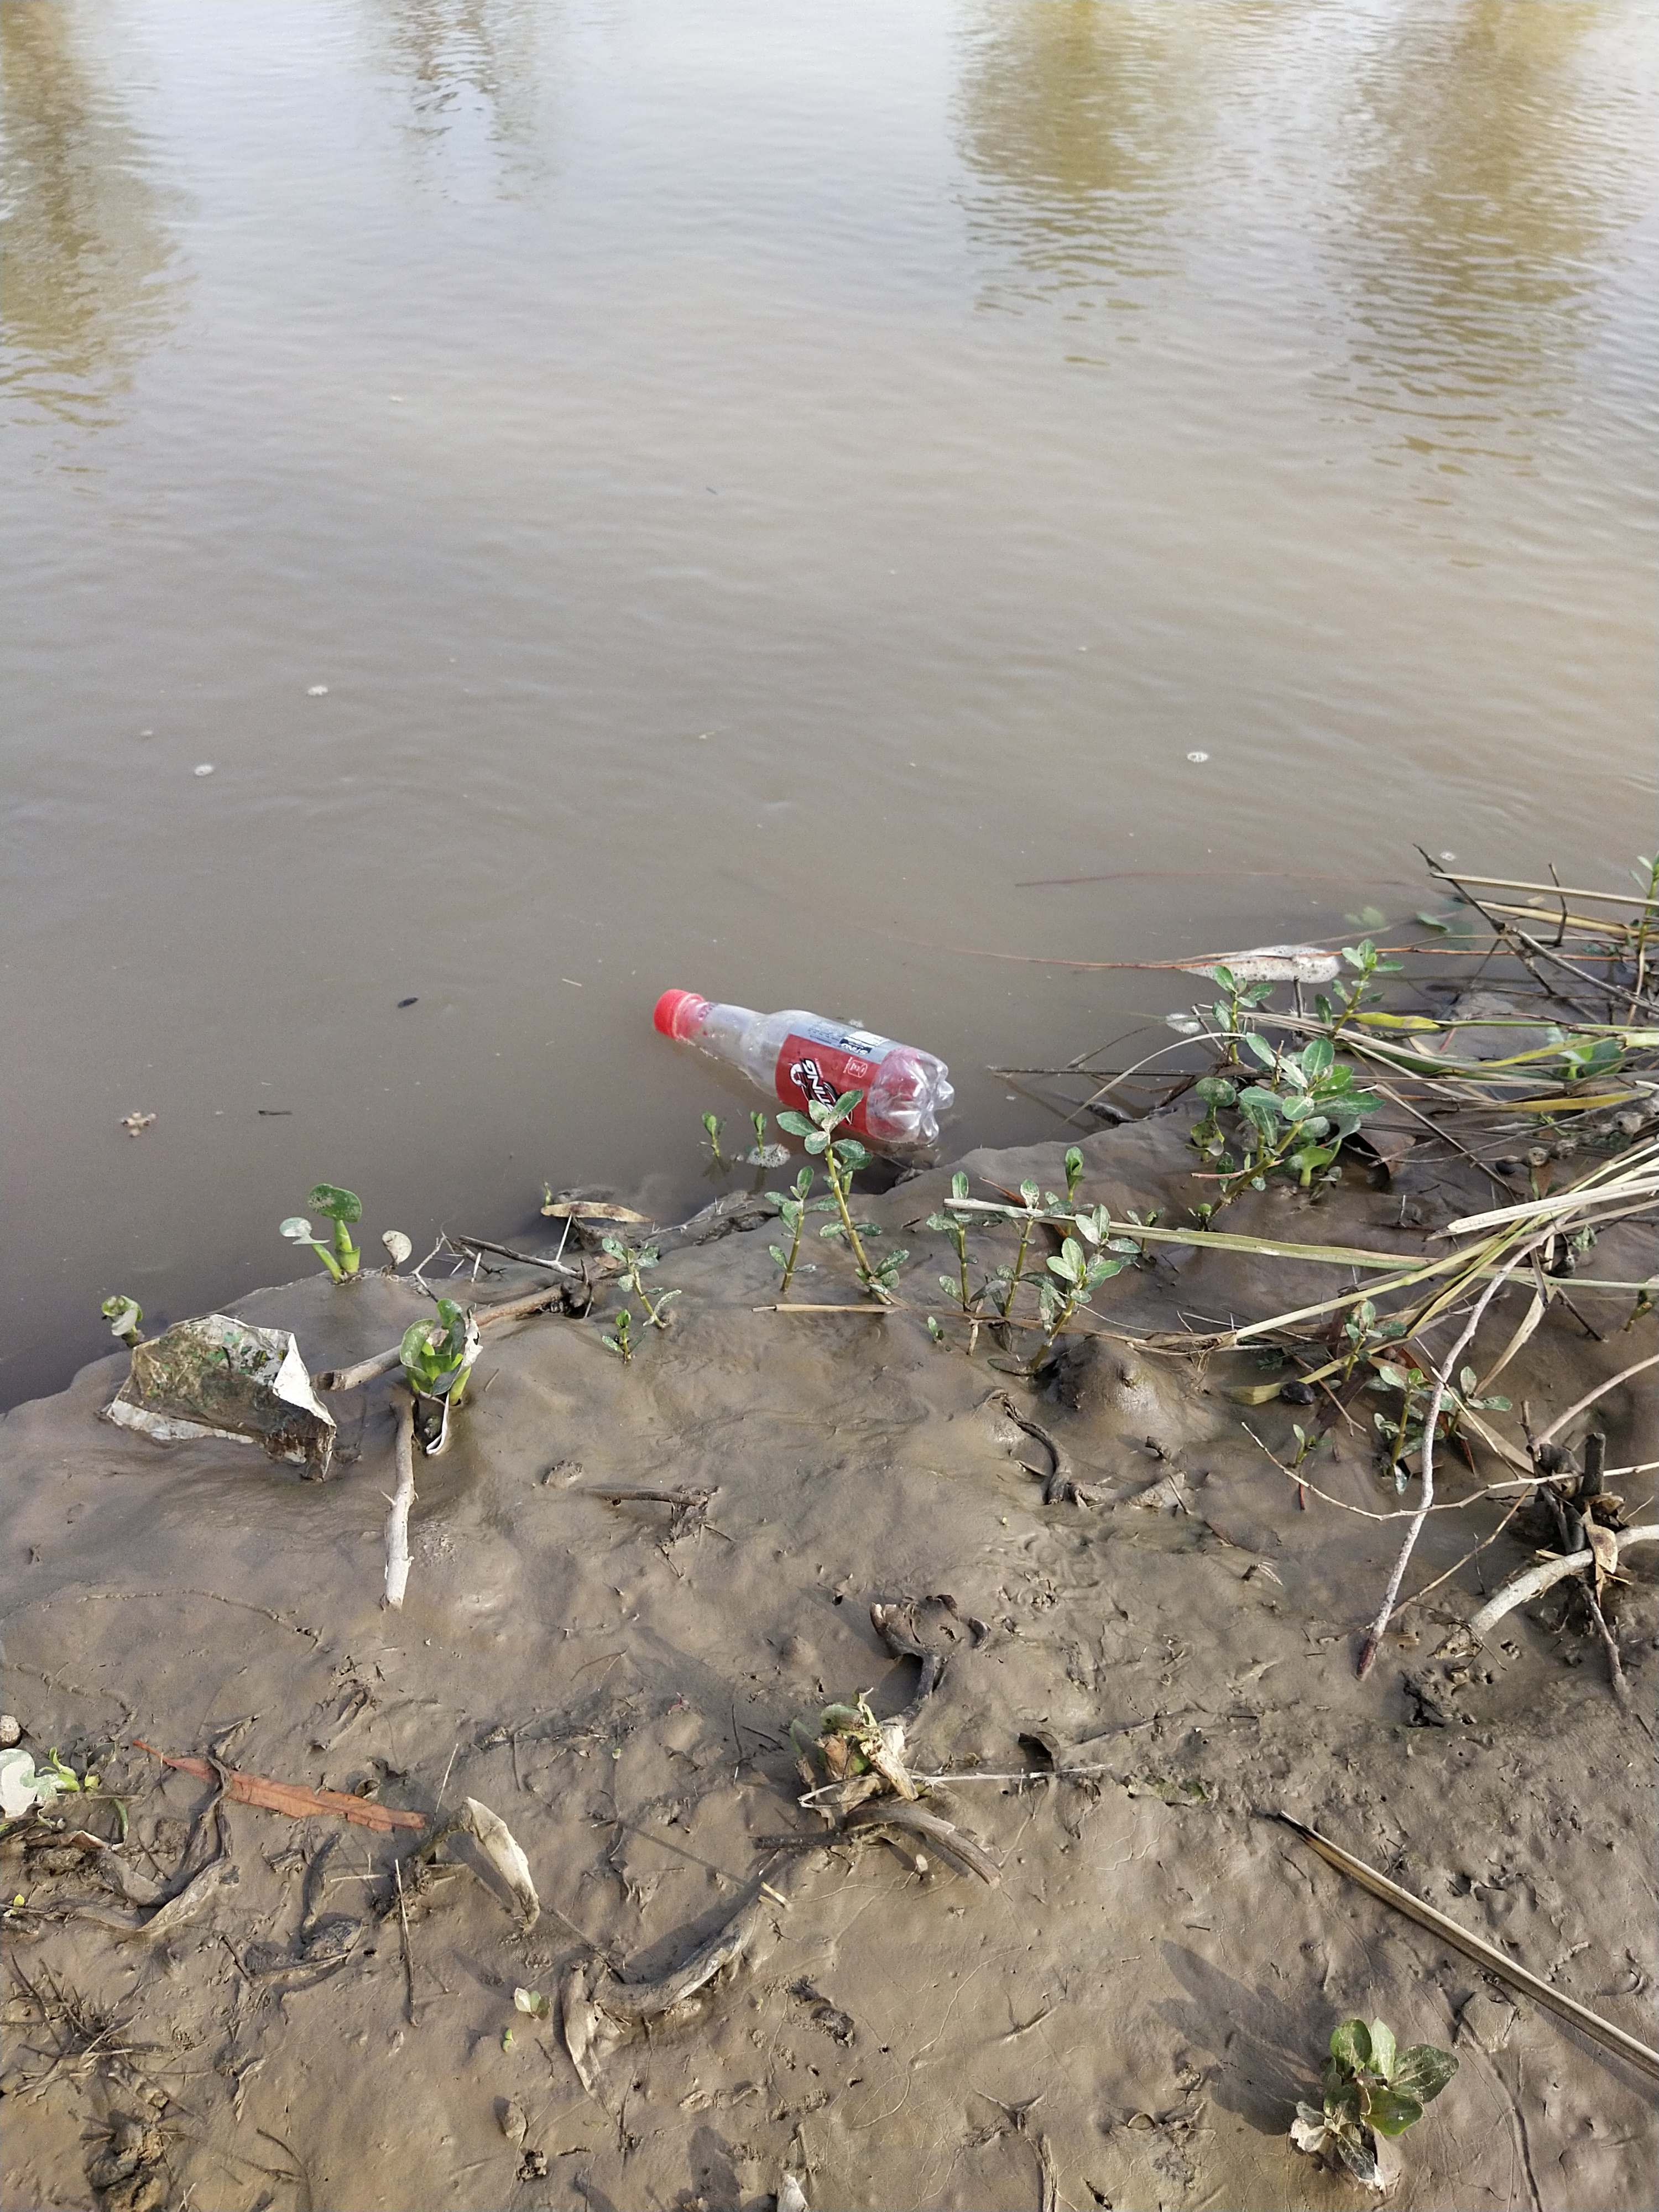Plastic Bottle: (650, 986, 953, 1146)
